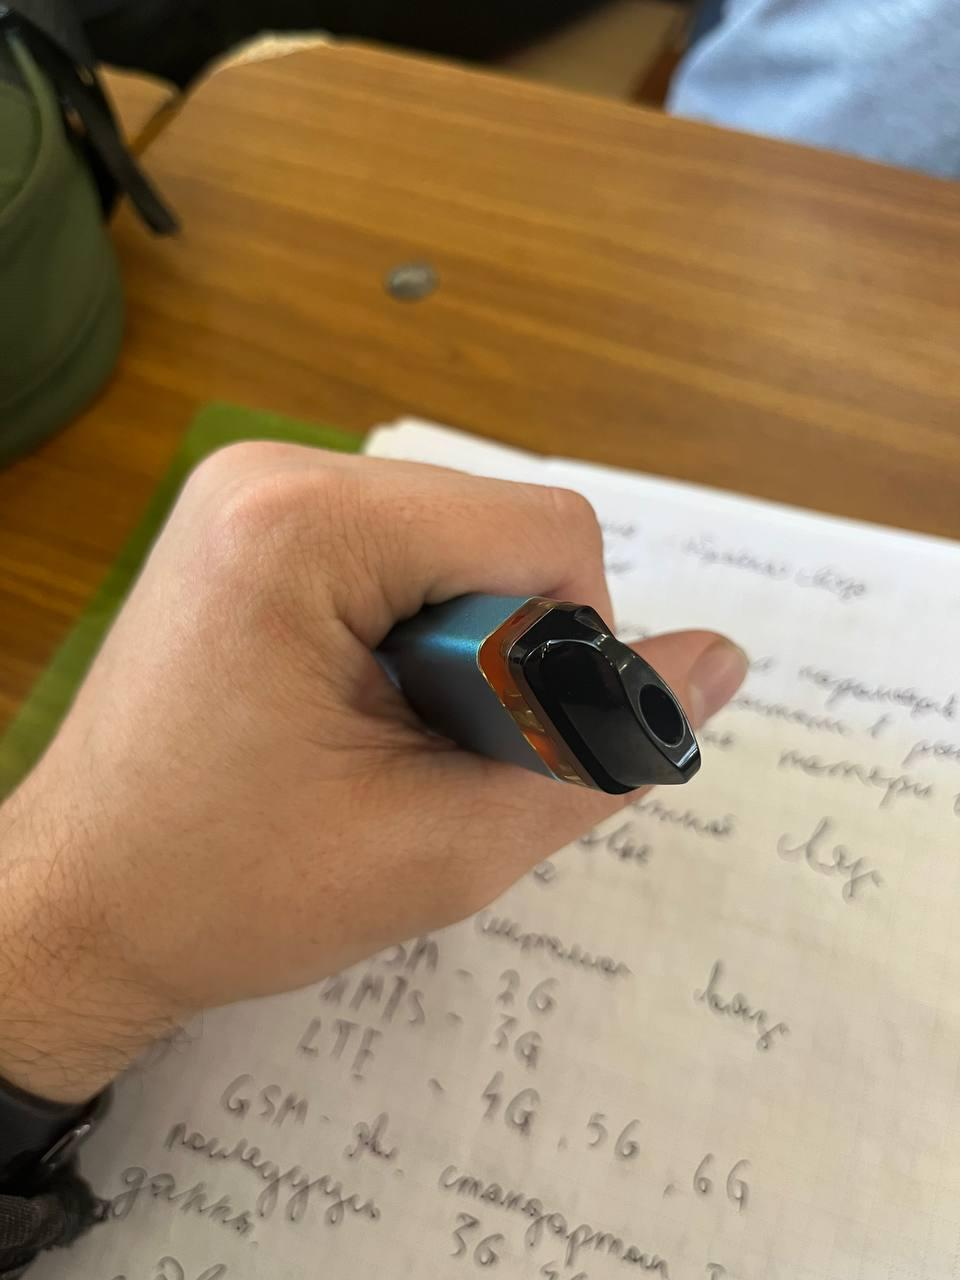Vape: (377, 595, 700, 794)
